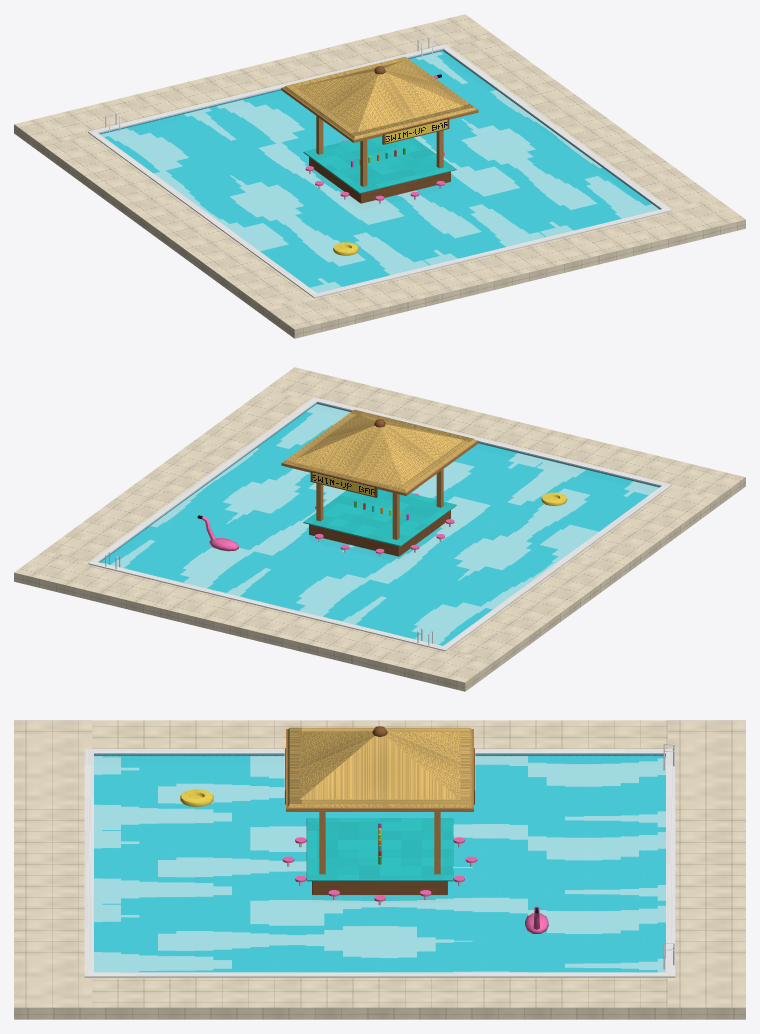
The model's file is p_ai_deck.glb.
The picture shows the model from 3 angles, top to bottom: view 1: azimuth 30°, elevation 25°; view 2: azimuth 150°, elevation 25°; view 3: azimuth 270°, elevation 25°; orthographic projection. The views are drawn at different scales.
Parts seen in each view (by area): view 1: p_ai_deck_lod0; view 2: p_ai_deck_lod0; view 3: p_ai_deck_lod0.
Part boxes in pixels (box(x1,y1,x2,y2)): p_ai_deck_lod0: box(14, 14, 745, 338); p_ai_deck_lod0: box(14, 367, 745, 691); p_ai_deck_lod0: box(14, 720, 745, 1019).
Size of what is drawn, in the model's own units: 26 by 6.29 by 28.
4 materials, 4 textured.
